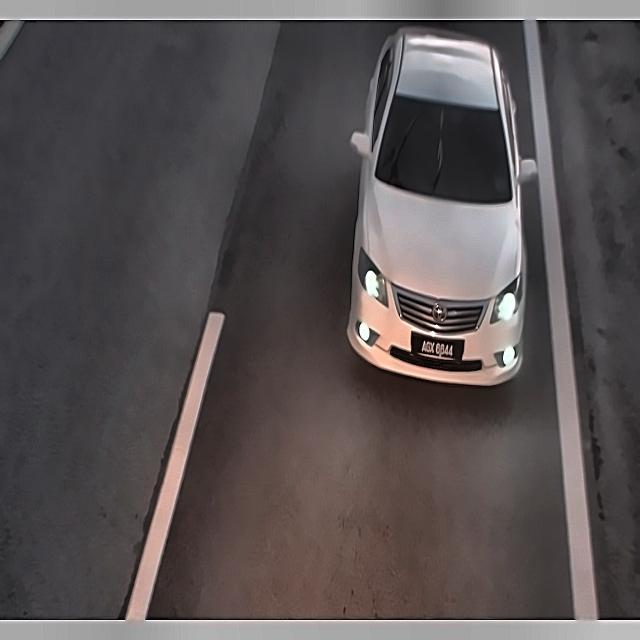car: (410, 326, 468, 368)
